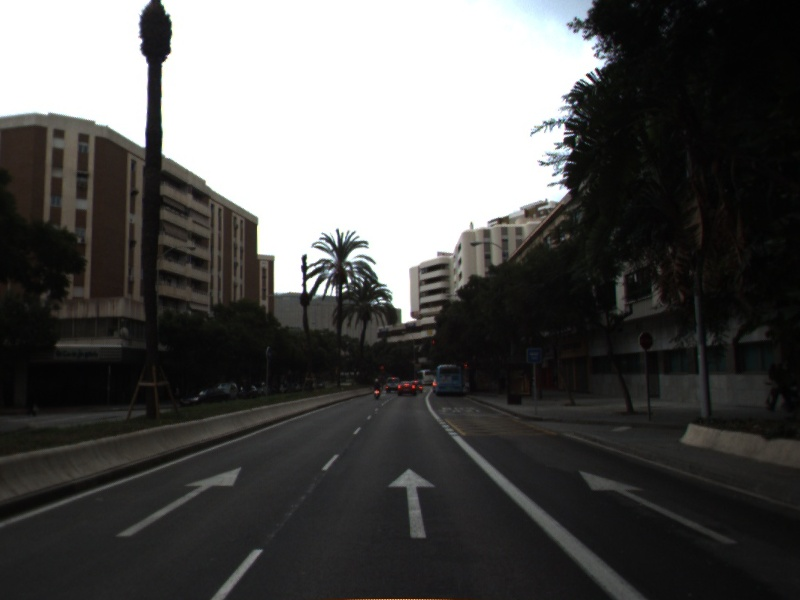STRAIGHT: (578, 469, 740, 546), (114, 465, 244, 539), (386, 466, 438, 540)
